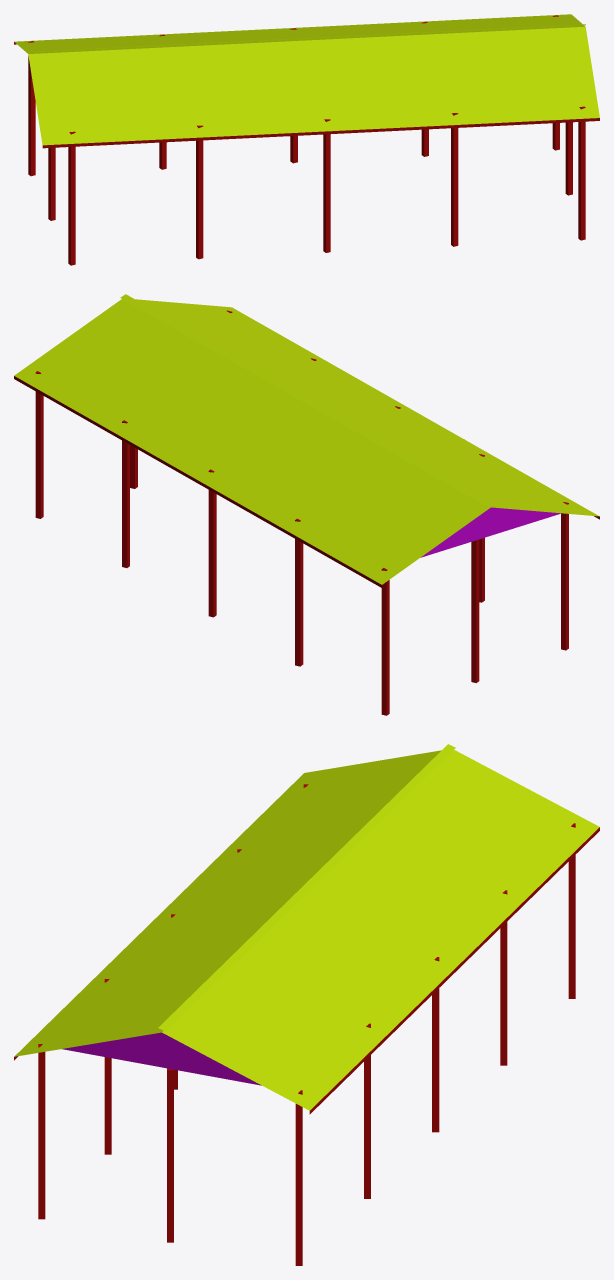
File: stabulation_b.glb
The picture shows the model from 3 angles, top to bottom: view 1: azimuth 30°, elevation 25°; view 2: azimuth 150°, elevation 25°; view 3: azimuth 270°, elevation 25°; orthographic projection. The views are drawn at different scales.
Parts seen in each view (by area): view 1: stabulation_b; view 2: stabulation_b; view 3: stabulation_b.
Part boxes in pixels (bbox=[...]): stabulation_b: bbox=[14, 14, 599, 265]; stabulation_b: bbox=[14, 294, 599, 715]; stabulation_b: bbox=[14, 744, 599, 1265].
Size of the model in its own units: 22.72 by 6.93 by 16.65.
